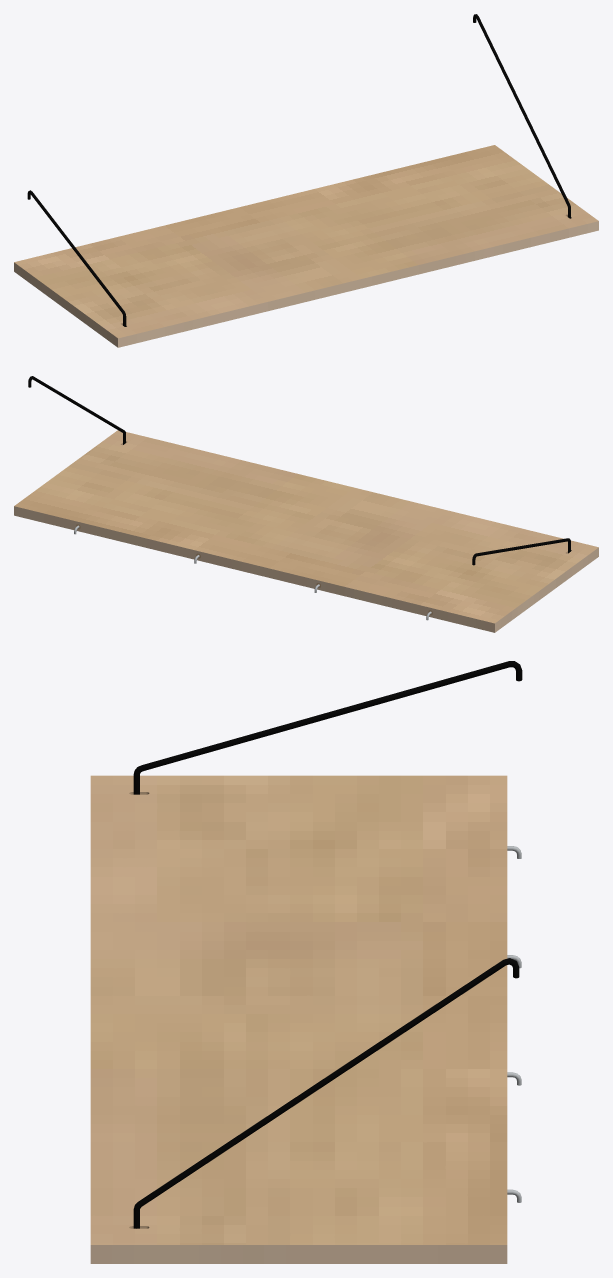
File: board80x30_t2_left.glb
The picture shows the model from 3 angles, top to bottom: view 1: azimuth 30°, elevation 25°; view 2: azimuth 150°, elevation 25°; view 3: azimuth 270°, elevation 25°; orthographic projection. The views are drawn at different scales.
Visible parts, largest first — view 1: Geom3D (×3), Geom3D_; view 2: Geom3D (×3), Geom3D_; view 3: Geom3D (×3), Geom3D_.
Part boxes in pixels (left/top/right/bottom): Geom3D (×3): left=14, top=14, right=598, bottom=347; Geom3D_: left=27, top=190, right=126, bottom=326; Geom3D (×3): left=14, top=376, right=598, bottom=632; Geom3D_: left=472, top=538, right=570, bottom=565; Geom3D (×3): left=90, top=775, right=519, bottom=1263; Geom3D_: left=133, top=661, right=522, bottom=794.
Bounding box in the file's own units: 0.8 × 0.2296 × 0.3108.
Materials: 4 (3 with a texture image).
